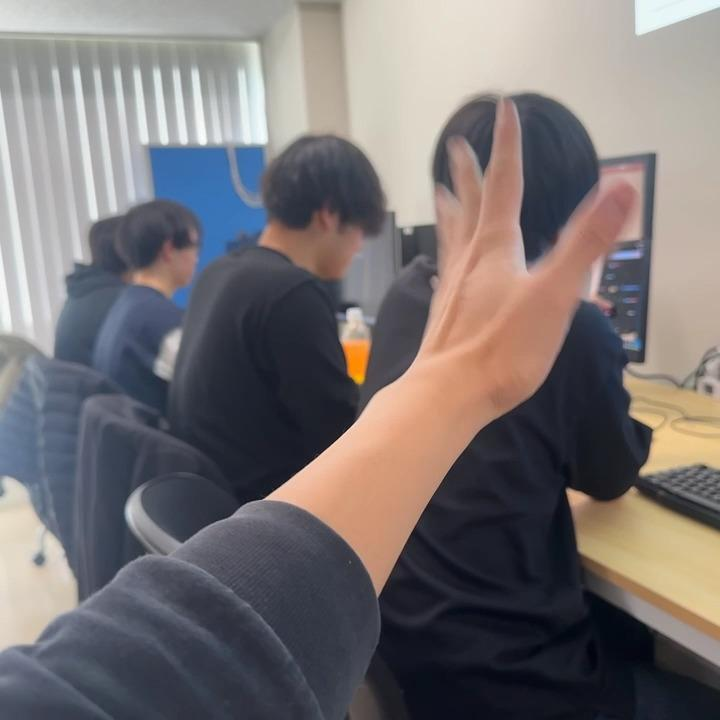without_gloves: (245, 15, 652, 442)
